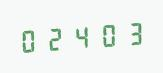four: (68, 20, 92, 52)
three: (118, 17, 142, 48)
two: (43, 22, 67, 53)
zero: (18, 24, 42, 55), (93, 19, 117, 50)
